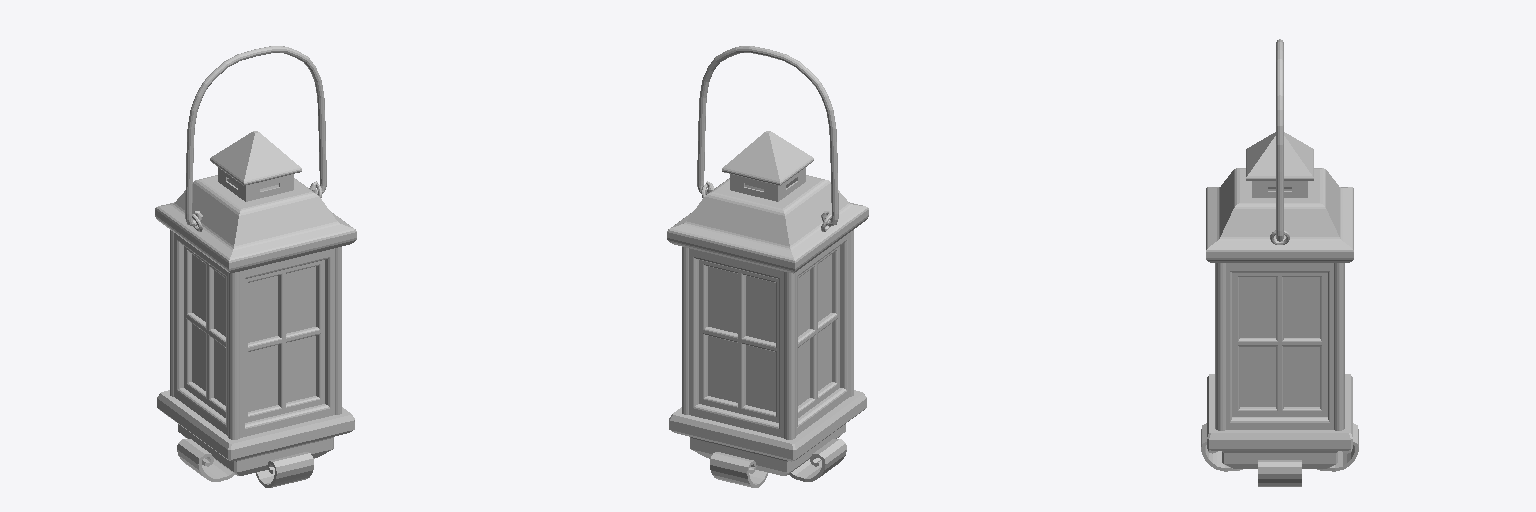
Rendered from lantern.obj.
The picture shows the model from 3 angles: view 1: azimuth 30°, elevation 25°; view 2: azimuth 150°, elevation 25°; view 3: azimuth 270°, elevation 25°; orthographic projection.
Visible parts, largest first — view 1: lantern1; view 2: lantern1; view 3: lantern1.
Boxes of the visible parts, x1,y1,x2,y2 form: lantern1: [155, 46, 356, 487]; lantern1: [667, 46, 868, 487]; lantern1: [1201, 39, 1358, 486].
Bounding box in the file's own units: 0.8976 × 2.51 × 0.8718.